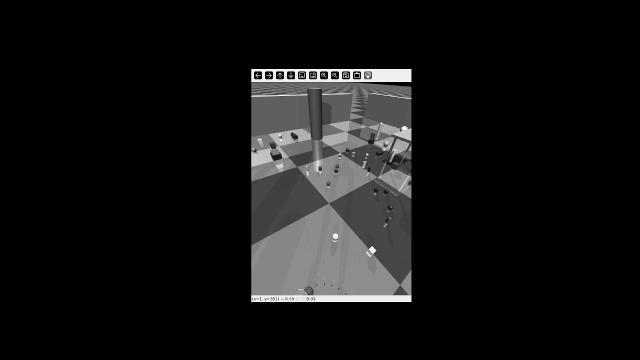cilindro: (306, 86, 325, 142), (387, 148, 399, 163), (381, 216, 394, 225), (359, 160, 368, 171), (377, 119, 384, 132), (289, 131, 299, 140), (371, 186, 381, 194), (370, 132, 377, 139), (304, 164, 309, 172), (317, 166, 323, 172), (345, 147, 351, 153), (367, 166, 372, 173)
cuadrado: (367, 243, 379, 258), (390, 162, 403, 170), (267, 141, 277, 149), (269, 148, 280, 155), (382, 188, 392, 195), (368, 139, 377, 144), (257, 139, 264, 144), (334, 167, 339, 174), (351, 151, 356, 154)
esfera: (397, 125, 410, 135), (330, 232, 339, 243), (276, 132, 284, 140), (382, 140, 390, 148), (332, 163, 342, 168), (388, 204, 394, 211), (324, 181, 332, 186), (251, 146, 256, 153), (337, 151, 342, 157), (408, 179, 412, 184), (365, 153, 370, 156)
rectangulo: (268, 154, 284, 160), (375, 149, 385, 158)
